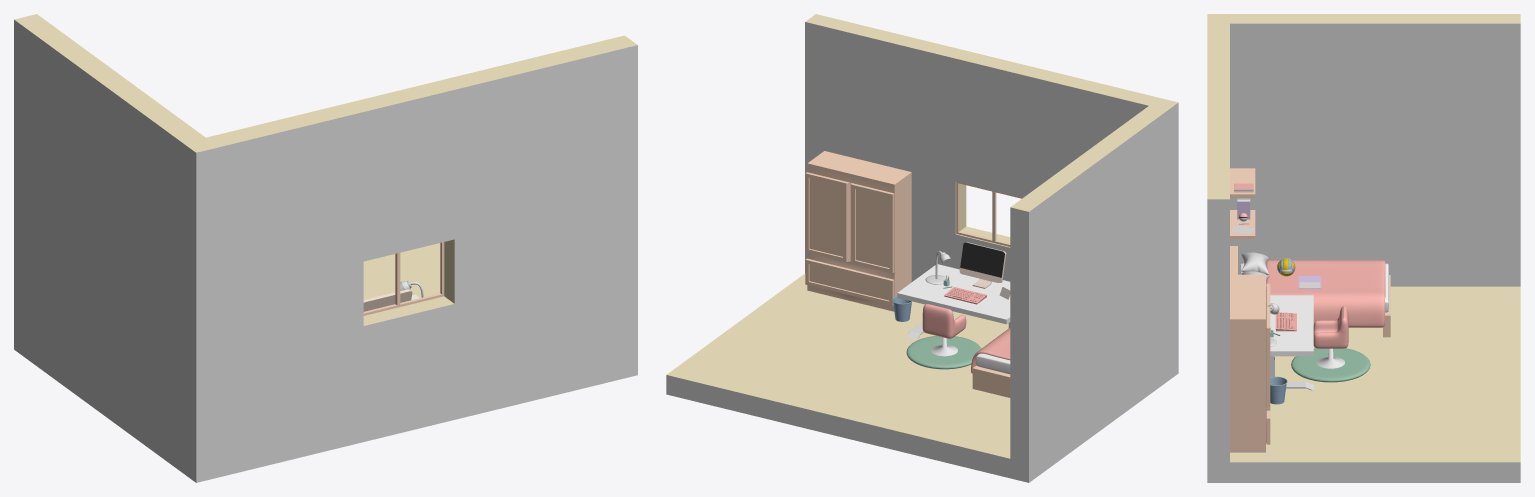
Rendered from Study_Room.glb.
The picture shows the model from 3 angles, left to right: view 1: azimuth 30°, elevation 25°; view 2: azimuth 150°, elevation 25°; view 3: azimuth 270°, elevation 25°; orthographic projection. The views are drawn at different scales.
Visible parts, largest first — view 1: Room, Window Frame; view 2: Room, Closet, Table Top, Rug, Desktop, Chair, Bedframe, Window Frame, Blanket; view 3: Room, Closet, Blanket, Table Top, Rug, Chair, Shelf.001, Shelf, Pillow.001, Bedframe, Cube.030, Trashcan.
Part boxes in pixels (bbox=[...]): Room: bbox=[14, 14, 637, 482]; Window Frame: bbox=[363, 242, 444, 315]; Room: bbox=[666, 14, 1178, 482]; Closet: bbox=[805, 151, 911, 311]; Table Top: bbox=[897, 264, 1010, 324]; Rug: bbox=[906, 336, 981, 369]; Desktop: bbox=[960, 242, 1004, 277]; Chair: bbox=[922, 304, 966, 338]; Bedframe: bbox=[972, 365, 1010, 397]; Window Frame: bbox=[956, 181, 1022, 246]; Blanket: bbox=[971, 327, 1010, 373]; Room: bbox=[1207, 14, 1520, 482]; Closet: bbox=[1230, 274, 1270, 452]; Blanket: bbox=[1266, 260, 1385, 327]; Table Top: bbox=[1270, 295, 1313, 356]; Rug: bbox=[1291, 348, 1370, 382]; Chair: bbox=[1313, 306, 1348, 348]; Shelf.001: bbox=[1230, 168, 1255, 197]; Shelf: bbox=[1230, 210, 1255, 239]; Pillow.001: bbox=[1241, 252, 1269, 274]; Bedframe: bbox=[1230, 246, 1390, 337]; Cube.030: bbox=[1275, 312, 1296, 331]; Trashcan: bbox=[1270, 377, 1286, 404].
Size of the model in its own units: 27.27 by 19.48 by 19.48.
